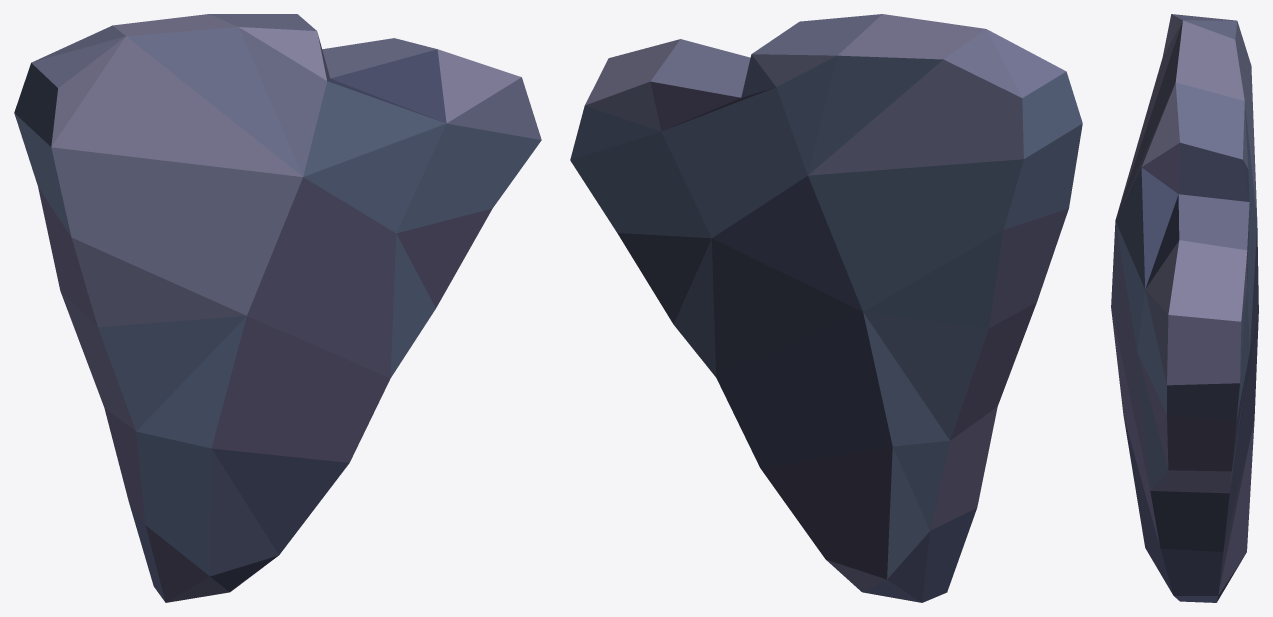
File: cliff-mass.glb
3 views of the same model, side by side, from view 1: azimuth 30°, elevation 25°; view 2: azimuth 150°, elevation 25°; view 3: azimuth 270°, elevation 25° (orthographic). The views are drawn at different scales.
Visible parts, largest first — view 1: Cliff Mass.001; view 2: Cliff Mass.001; view 3: Cliff Mass.001.
Part boxes in pixels (x1=…): Cliff Mass.001: x1=14, y1=14, x2=541, y2=602; Cliff Mass.001: x1=570, y1=14, x2=1082, y2=602; Cliff Mass.001: x1=1111, y1=14, x2=1258, y2=602.
Size of the model in its own units: 7.23 by 8.13 by 2.04.
